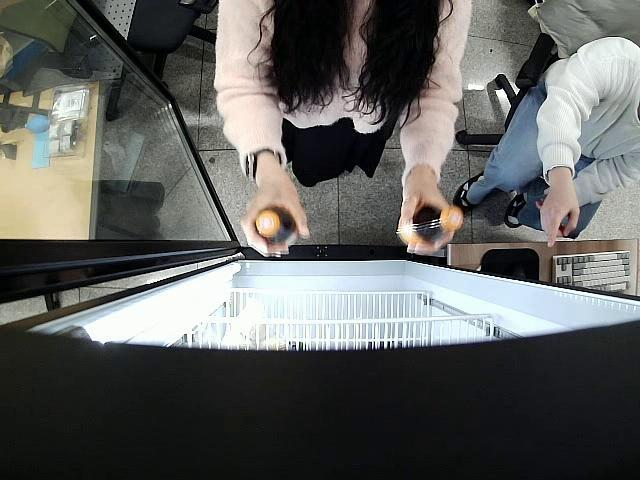17_vita500: (392, 204, 464, 248), (253, 204, 300, 250)
